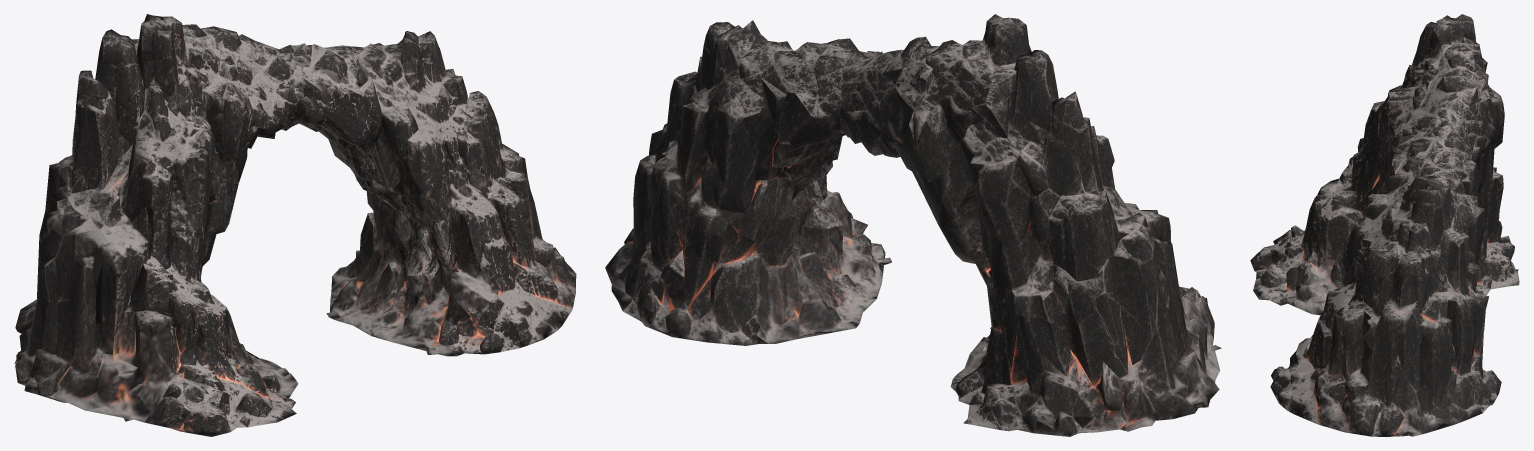
The model's file is lava_arch.glb.
3 views of the same model, side by side, from view 1: azimuth 30°, elevation 25°; view 2: azimuth 150°, elevation 25°; view 3: azimuth 270°, elevation 25° (orthographic). The views are drawn at different scales.
Visible parts, largest first — view 1: lava_arch; view 2: lava_arch; view 3: lava_arch.
Part boxes in pixels (x1,y1,x2,y2): lava_arch: (14,14,576,436); lava_arch: (605,14,1221,436); lava_arch: (1250,14,1519,436).
Bounding box in the file's own units: 188 × 110 × 99.62.
1 material, 1 textured.
